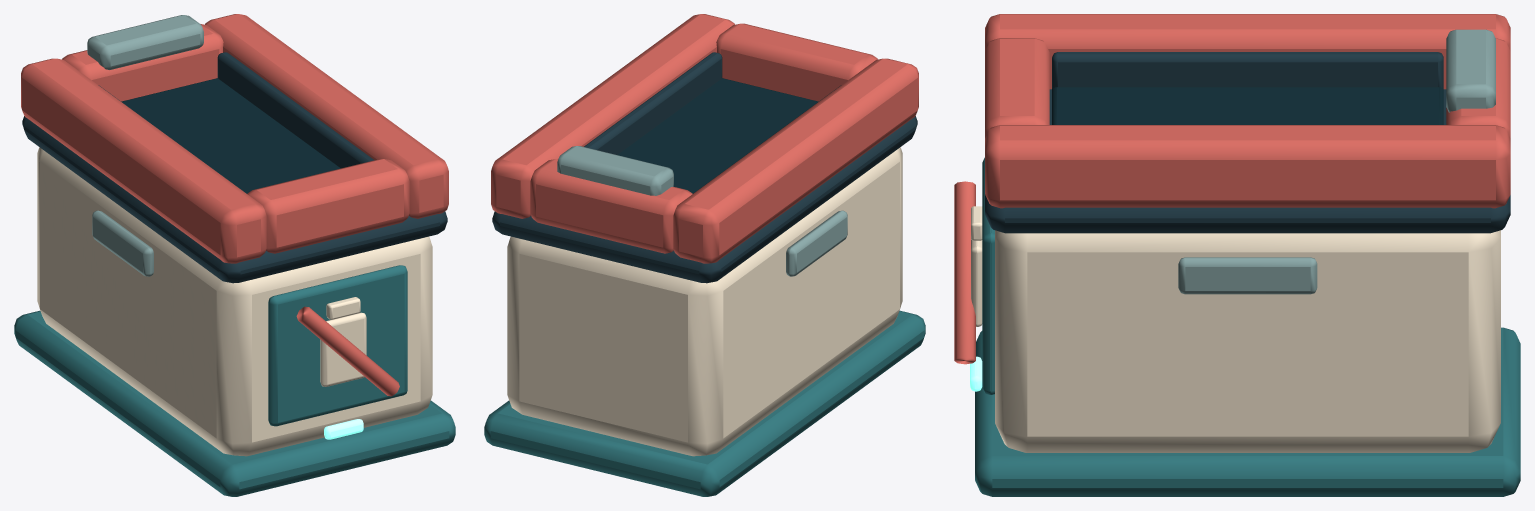
The model's file is medicine-disposal-bin.glb.
3 renders of one model, left to right at view 1: azimuth 30°, elevation 25°; view 2: azimuth 150°, elevation 25°; view 3: azimuth 270°, elevation 25°, orthographic. The views are drawn at different scales.
Parts seen in each view (by area): view 1: CeramicCream, CoralEnamel, DeepTeal, SlateRubber, ScreenGlass, BrushedMetal, StatusGlow; view 2: CeramicCream, CoralEnamel, DeepTeal, SlateRubber, ScreenGlass, BrushedMetal; view 3: CeramicCream, CoralEnamel, DeepTeal, SlateRubber, ScreenGlass, BrushedMetal.
Boxes of the visible parts, left/top/right/bottom form: CeramicCream: left=37, top=147, right=432, bottom=456; CoralEnamel: left=21, top=14, right=448, bottom=396; DeepTeal: left=14, top=265, right=455, bottom=496; SlateRubber: left=22, top=52, right=447, bottom=283; ScreenGlass: left=121, top=78, right=340, bottom=193; BrushedMetal: left=87, top=15, right=203, bottom=276; StatusGlow: left=324, top=419, right=363, bottom=439; CeramicCream: left=507, top=147, right=902, bottom=456; CoralEnamel: left=491, top=14, right=918, bottom=263; DeepTeal: left=484, top=310, right=925, bottom=496; SlateRubber: left=492, top=52, right=917, bottom=283; ScreenGlass: left=617, top=78, right=818, bottom=193; BrushedMetal: left=557, top=146, right=847, bottom=276; CeramicCream: left=971, top=206, right=1500, bottom=452; CoralEnamel: left=954, top=14, right=1510, bottom=364; DeepTeal: left=975, top=157, right=1520, bottom=496; SlateRubber: left=985, top=52, right=1510, bottom=233; ScreenGlass: left=1052, top=87, right=1443, bottom=124; BrushedMetal: left=1178, top=29, right=1495, bottom=294.
Bounding box in the file's own units: 0.68 × 0.835 × 1.14.
